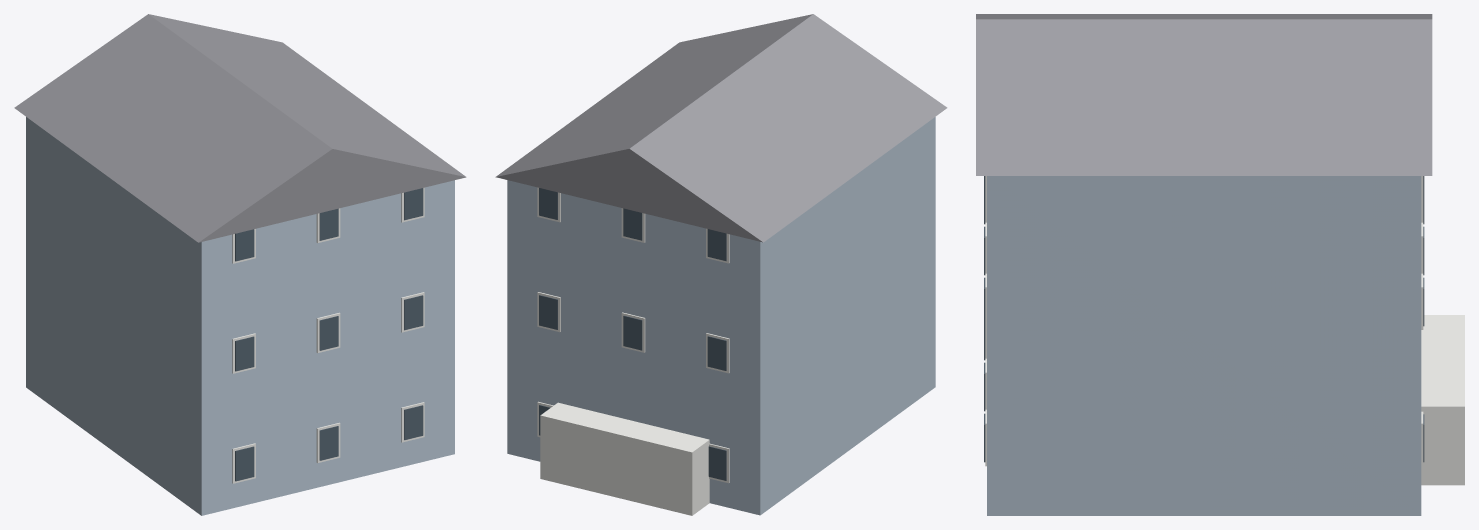
The model's file is triple_decker.glb.
The picture shows the model from 3 angles, left to right: view 1: azimuth 30°, elevation 25°; view 2: azimuth 150°, elevation 25°; view 3: azimuth 270°, elevation 25°; orthographic projection. The views are drawn at different scales.
Parts seen in each view (by area): view 1: triple_body, triple_roof, win_bg1_2, win_bg0_0, win_bg0_2, win_bg1_0, win_bg1_1, win_bg0_1, win_bg2_0, win_bg2_1, win_bg2_2; view 2: triple_body, triple_roof, triple_porch, win_fg1_1, win_fg1_0, win_fg0_0, win_fg1_2, win_fg2_1, win_fg2_0, win_fg2_2; view 3: triple_body, triple_roof, triple_porch.
Part boxes in pixels (x1,y1,x2,y2): triple_body: (26, 117, 454, 515); triple_roof: (14, 14, 466, 242); win_bg1_2: (404, 295, 423, 330); win_bg0_0: (235, 446, 254, 481); win_bg0_2: (404, 405, 423, 440); win_bg1_0: (235, 336, 254, 371); win_bg1_1: (319, 316, 338, 350); win_bg0_1: (319, 426, 338, 460); win_bg2_0: (235, 229, 254, 261); win_bg2_1: (319, 208, 338, 240); win_bg2_2: (404, 188, 423, 220); triple_body: (507, 117, 935, 515); triple_roof: (495, 14, 947, 242); triple_porch: (540, 402, 709, 515); win_fg1_1: (623, 315, 642, 350); win_fg1_0: (707, 336, 726, 370); win_fg0_0: (708, 446, 726, 480); win_fg1_2: (539, 295, 557, 329); win_fg2_1: (623, 208, 642, 240); win_fg2_0: (707, 229, 726, 261); win_fg2_2: (539, 188, 557, 219); triple_body: (987, 176, 1421, 515); triple_roof: (976, 14, 1432, 175); triple_porch: (1421, 315, 1464, 485).
Size of the model in its own units: 10.6 by 12.81 by 13.5.
